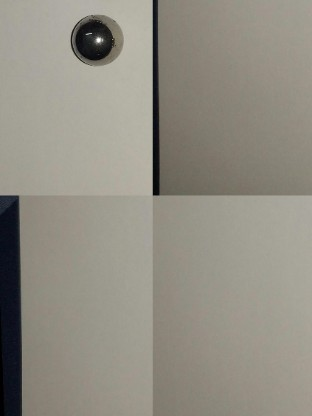ironball: (69, 14, 122, 66)
